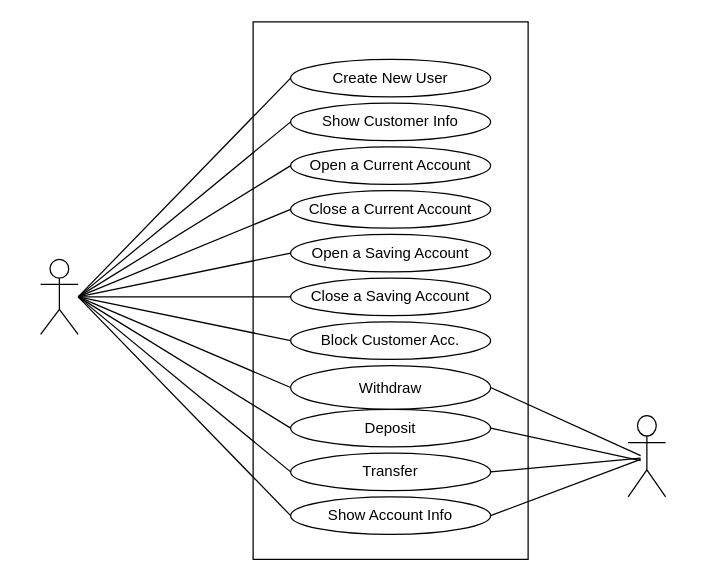
This 701x581 diagram has some shape labels left out. The box of each missing label's shape, as (x1, y1, x2, y2) in pixels:
Bank Client: (39, 258, 78, 334)
Banking System: (252, 21, 528, 559)
Customer: (627, 414, 666, 497)
